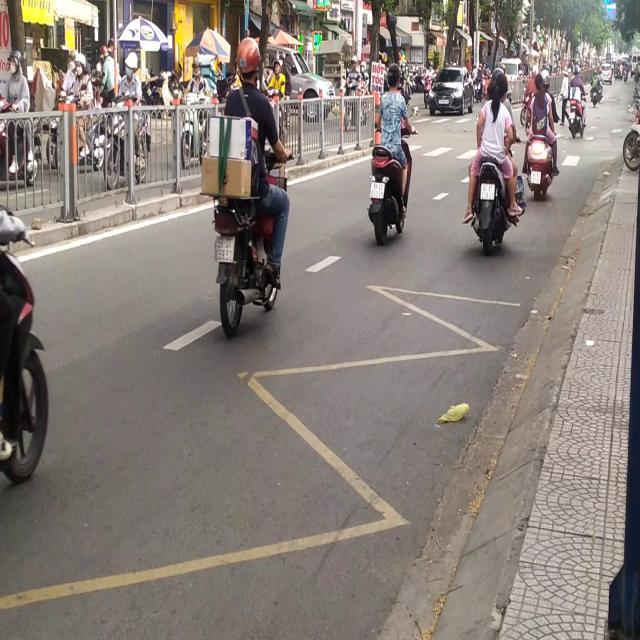bien_trang: (217, 237, 236, 269), (368, 177, 386, 200), (480, 182, 497, 200)
